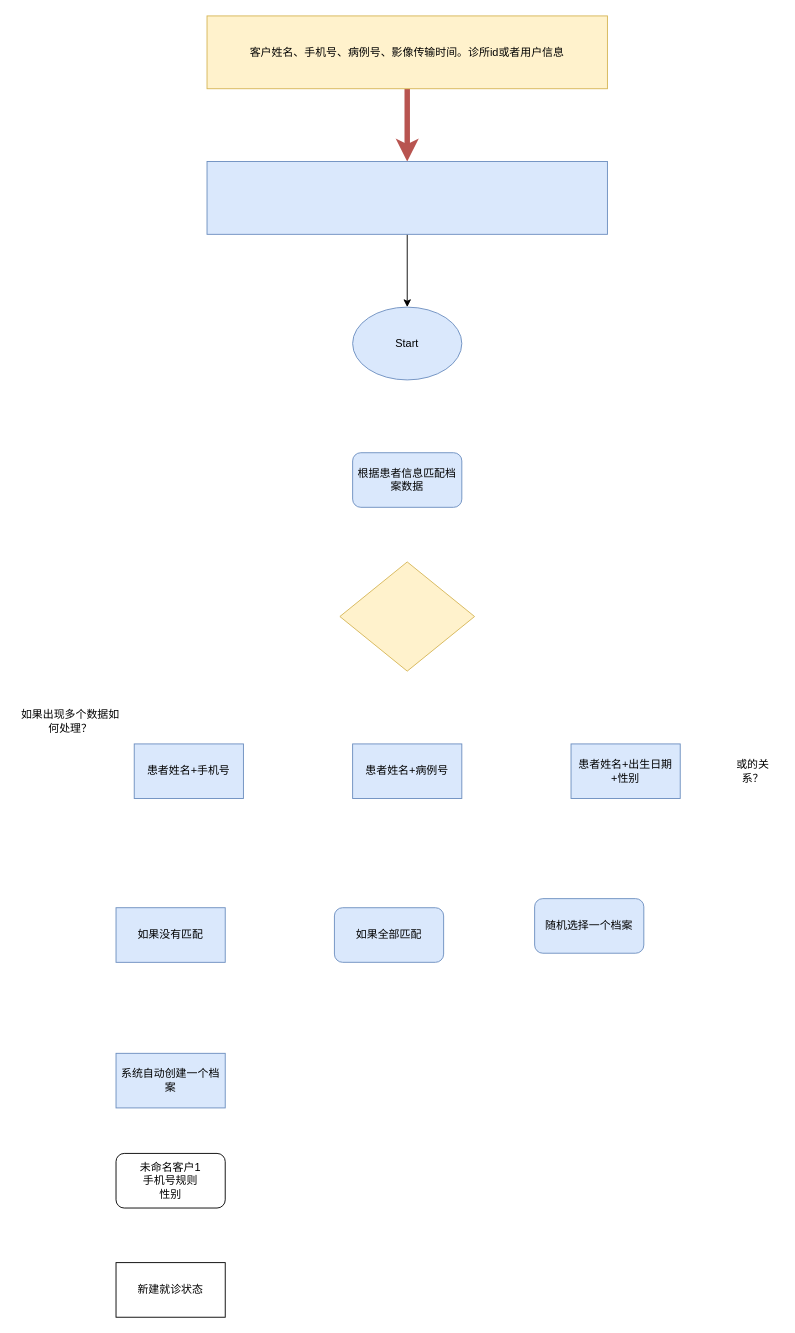
The diagram is 795 pixels wide and 1333 high, and some of its shapes have lost their labels. Here are the shapes that lost their labels. From the top down, the box of each, then its label:
(206, 161, 607, 234): AI牙医系统
(339, 561, 475, 671): 判断患者信息命中哪个规则
